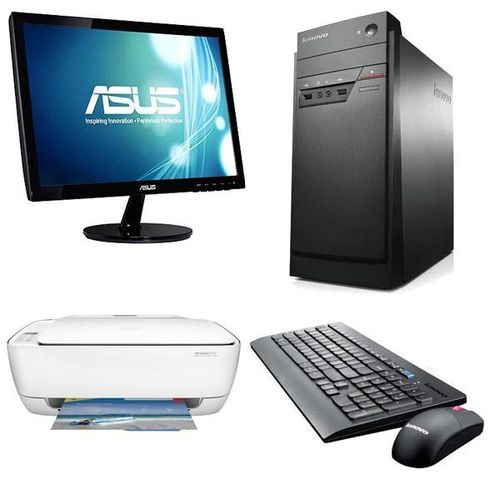Teclado: (246, 321, 472, 442)
